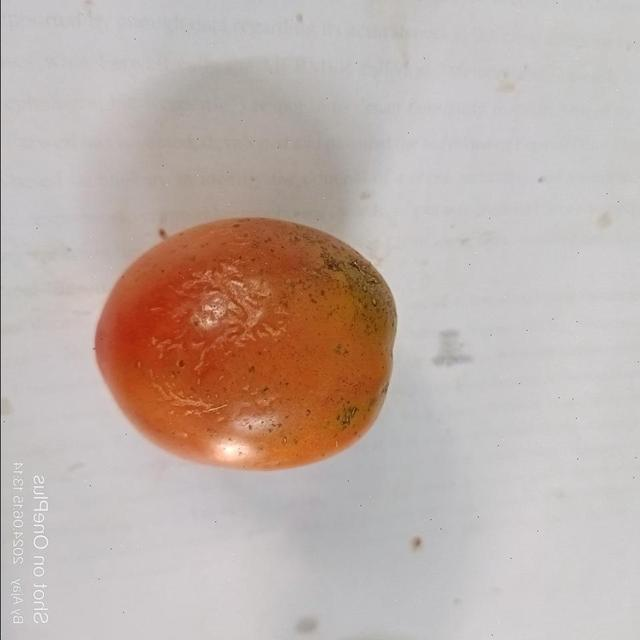Bacterial Spot Fruit: (24, 24, 238, 277)
